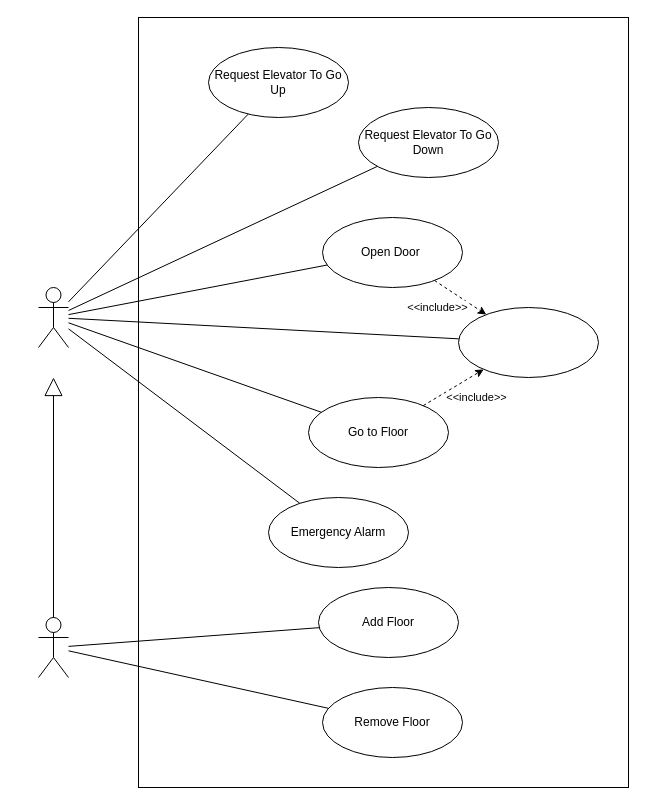
This 646x805 diagram has some shape labels left out. Here are the shapes that lost their labels. From the top down, the centre of each, then its label:
the point at 53,317: User
the point at 528,342: Close Door
the point at 53,647: Maintenance employee
